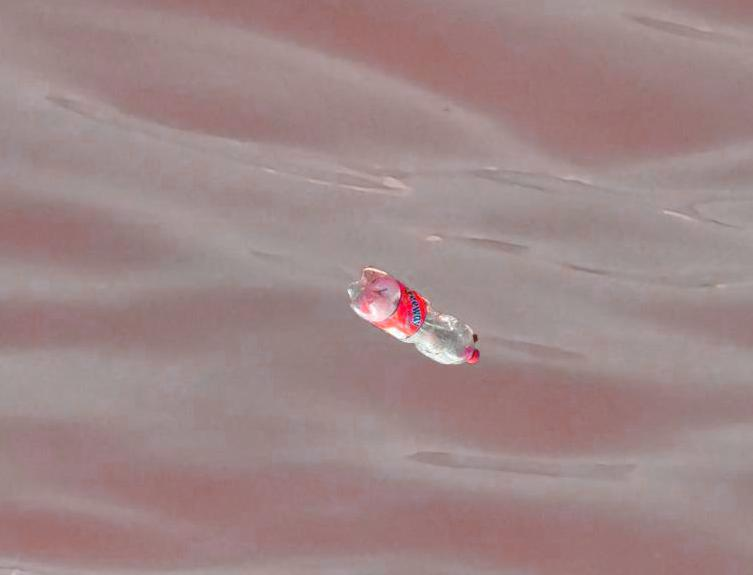Plastic: (347, 265, 483, 370)
